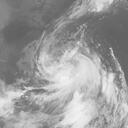cyclone: (42, 45, 106, 110)
